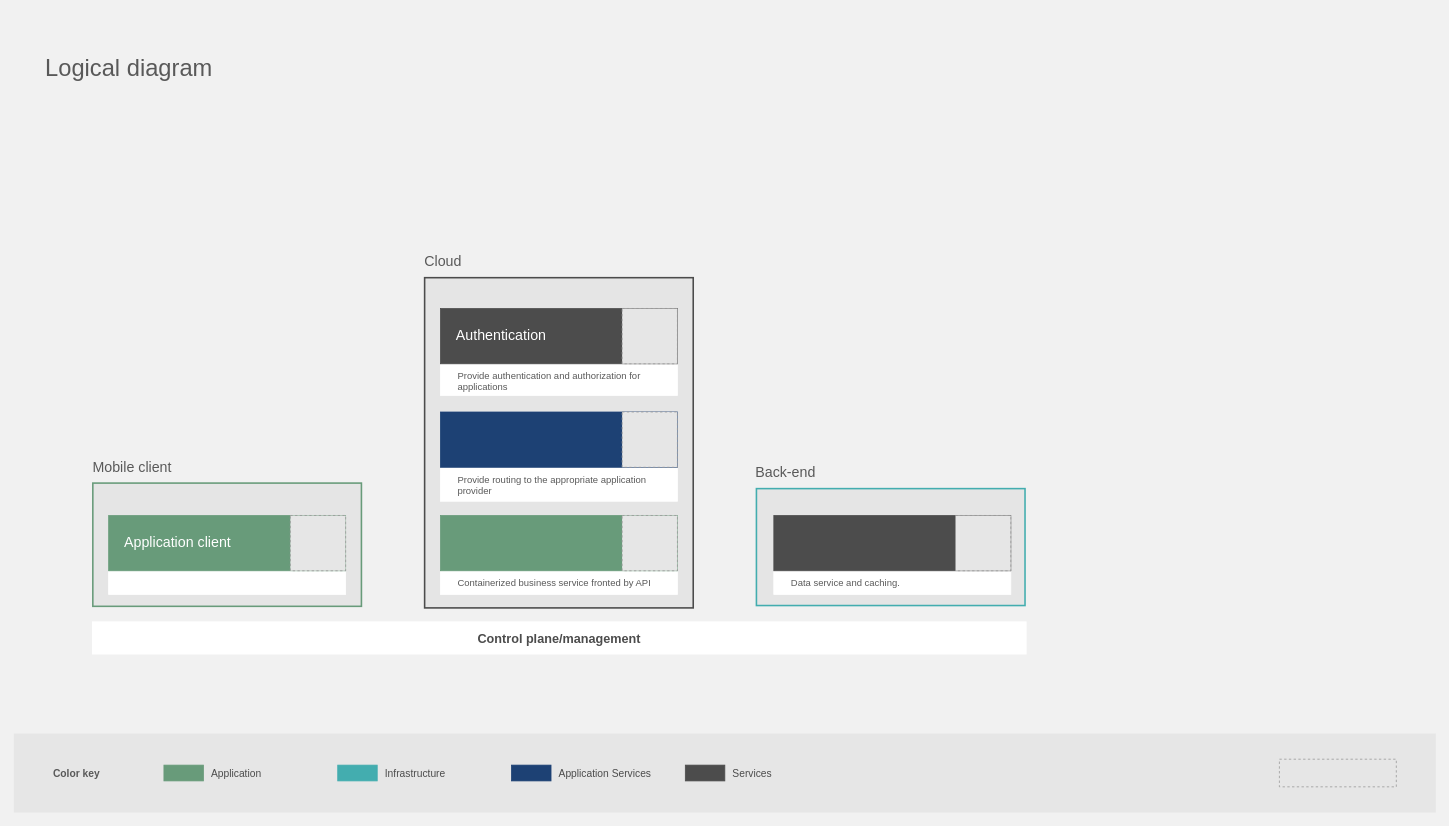
Image size: 1449x826. Some labels were removed from this diagram. Grey dashed boxes stand in for pictures. The box of each missing label's shape, as (x1, y1, x2, y2) in pixels:
API gateway: (440, 411, 677, 467)
Business application: (440, 515, 677, 571)
Data store: (773, 515, 1011, 571)
Downloaded Java client: (108, 515, 346, 594)
